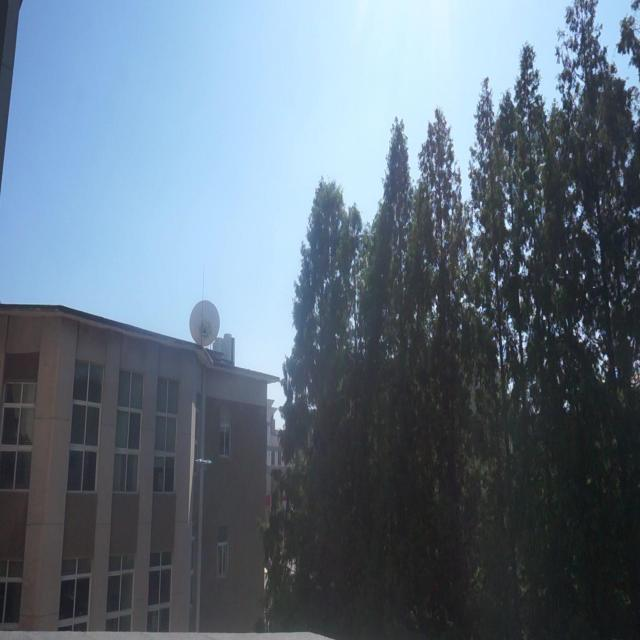UAV: (195, 458, 213, 471)
